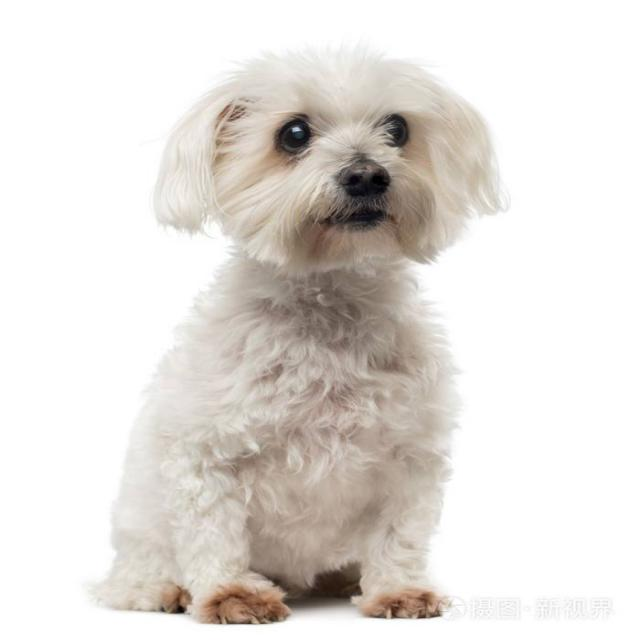eye: (272, 114, 317, 157), (380, 108, 412, 152)
